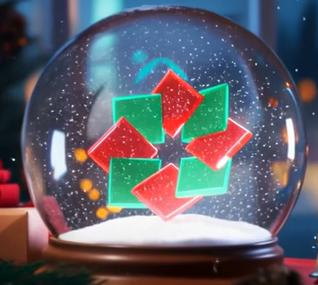Pasha Bank: (84, 67, 254, 225)
